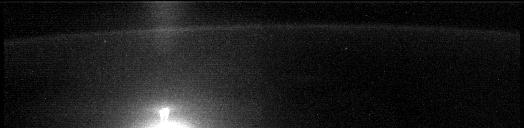positive: (151, 103, 176, 122)
